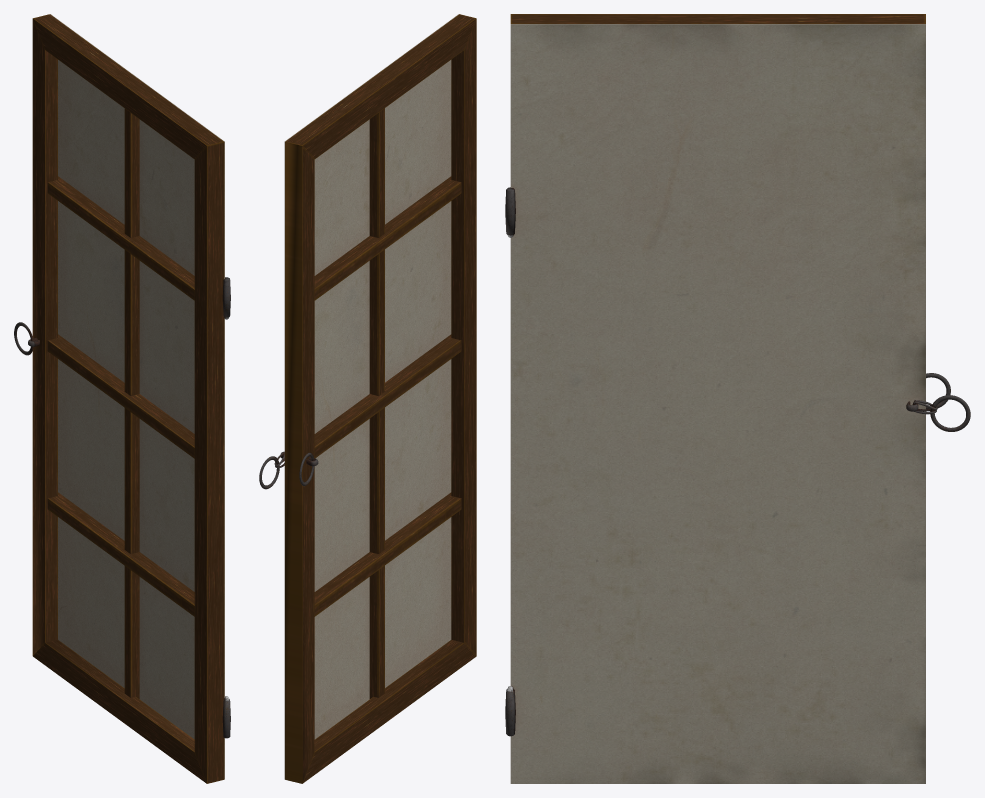
The model's file is SM_Door01g.fbx.
3 renders of one model, left to right at view 1: azimuth 30°, elevation 25°; view 2: azimuth 150°, elevation 25°; view 3: azimuth 270°, elevation 25°, orthographic. The views are drawn at different scales.
Visible parts, largest first — view 1: SM_Door01g; view 2: SM_Door01g; view 3: SM_Door01g.
Boxes of the visible parts, x1,y1,x2,y2 form: SM_Door01g: (14,14,230,783); SM_Door01g: (259,14,476,783); SM_Door01g: (505,14,970,783).
Bounding box in the file's own units: 8.44 × 141 × 78.48.
1 material, 1 textured.
